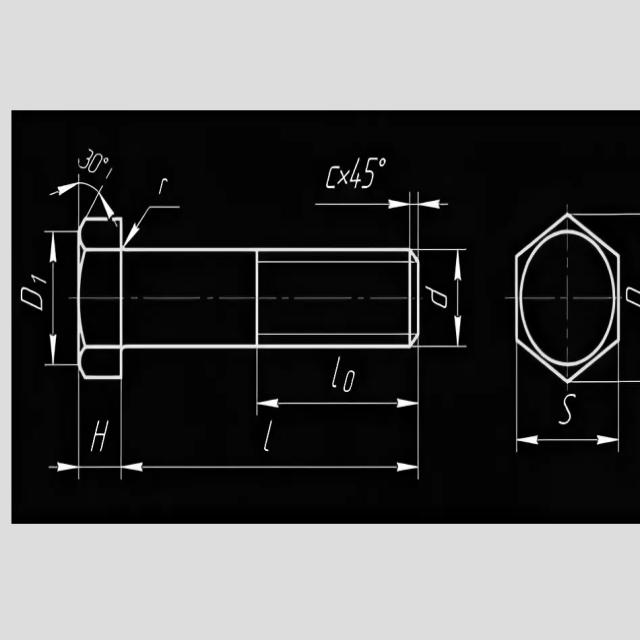marking_line: (48, 379, 420, 480), (255, 351, 425, 416), (512, 384, 622, 453), (313, 191, 448, 247), (421, 248, 467, 347), (43, 229, 76, 367), (50, 174, 117, 218), (124, 203, 181, 246)
numeric: (424, 284, 449, 310), (20, 286, 43, 312), (559, 392, 576, 427), (91, 418, 108, 453), (361, 155, 377, 190), (328, 354, 342, 388), (623, 284, 640, 309), (326, 161, 338, 193), (75, 148, 92, 170), (263, 419, 273, 453), (342, 370, 354, 394), (351, 158, 360, 189), (89, 154, 103, 173), (158, 176, 167, 196), (30, 275, 47, 284)
special_symbol: (337, 170, 350, 186), (378, 156, 387, 167), (104, 156, 109, 163)
